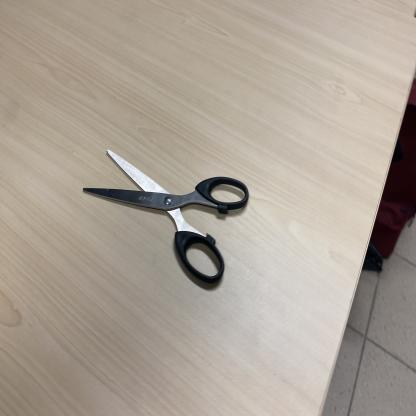scissors: (81, 145, 254, 299)
